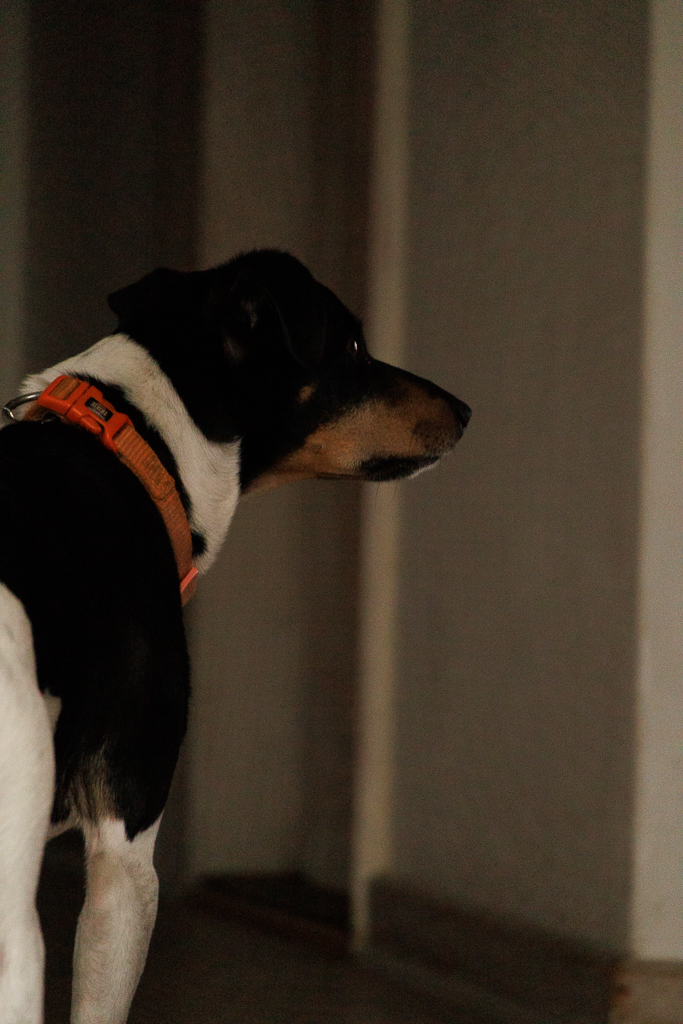Dog: (0, 238, 480, 1024)
